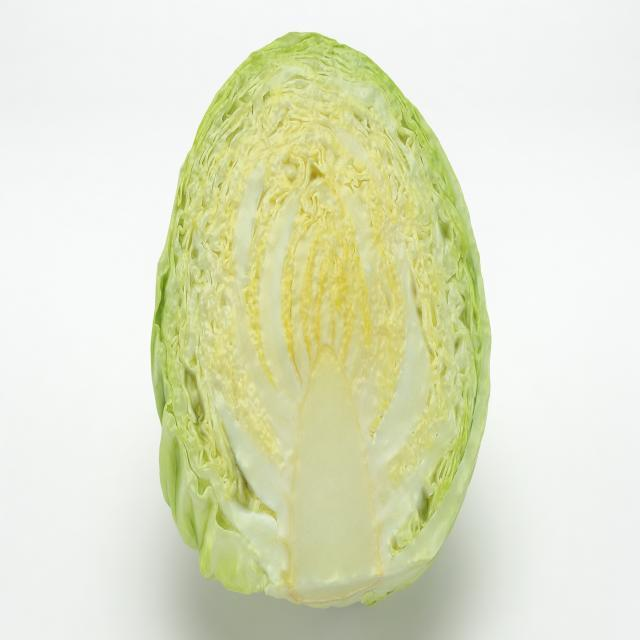cabbage: (151, 28, 494, 620)
